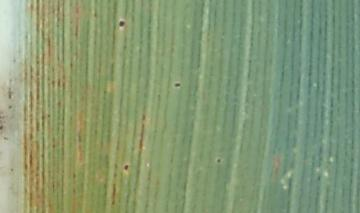tarspot: (6, 85, 14, 100), (117, 19, 126, 29), (140, 111, 148, 122), (122, 162, 130, 172), (70, 171, 78, 181), (173, 81, 181, 90), (92, 10, 99, 19), (8, 166, 16, 173), (315, 174, 323, 181), (7, 103, 13, 110), (215, 157, 221, 163), (1, 124, 4, 131)
